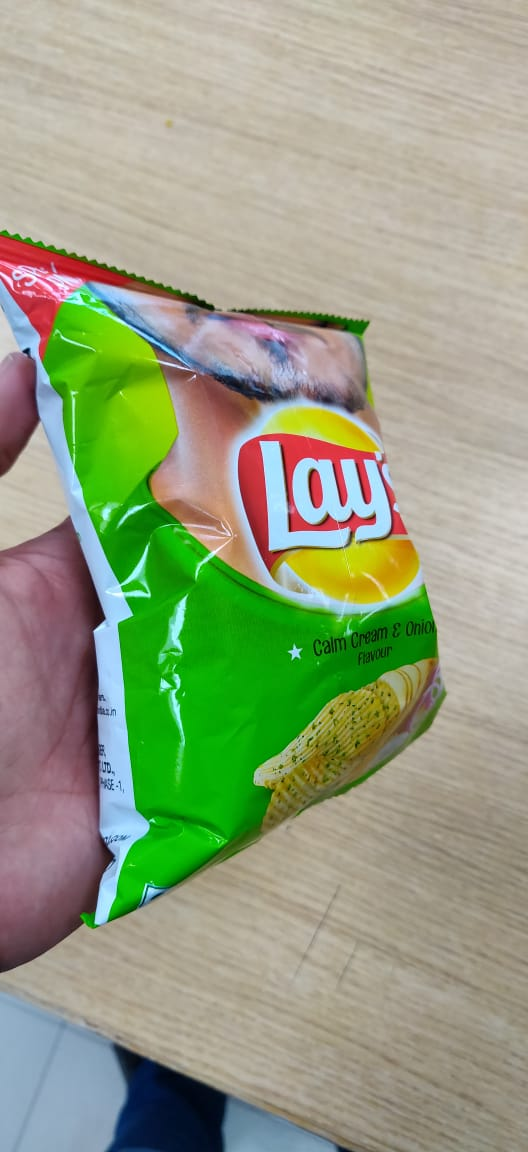lays chips: (5, 213, 487, 937)
